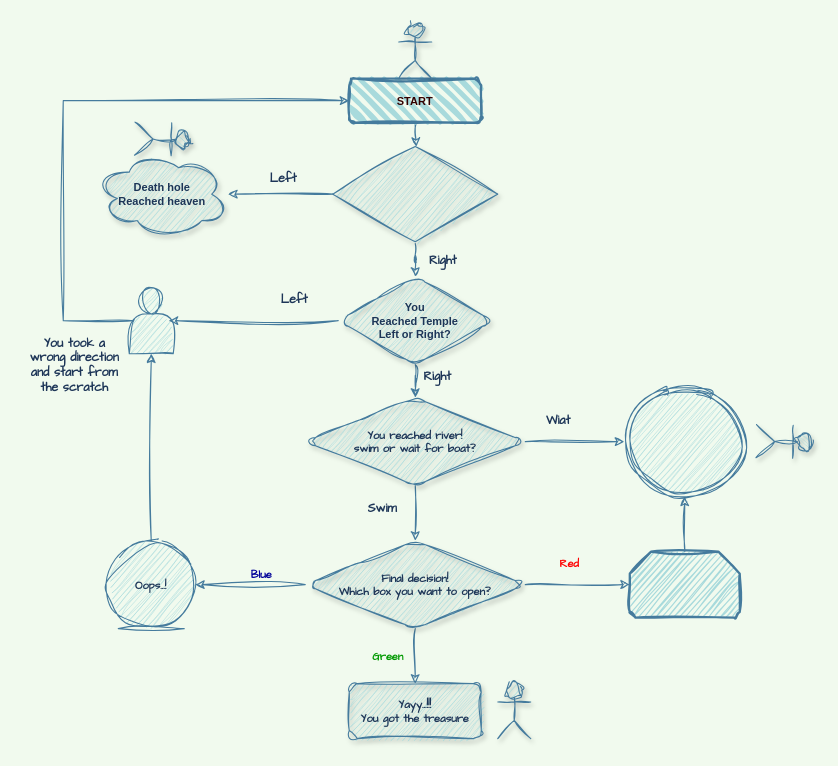
This 838x766 diagram has some shape labels left out. Here are the shapes that lost their labels. From the top down, the centre of each, then its label:
At (415,195): "Left or Right?".
At (684,441): "Pay for it - Here comes venomous snakes".
At (684,584): "Oh my God!!!".
